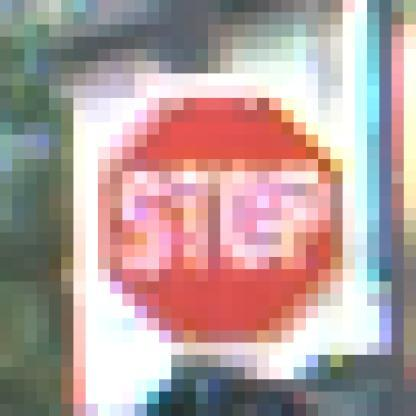Stop: (100, 87, 352, 347)
